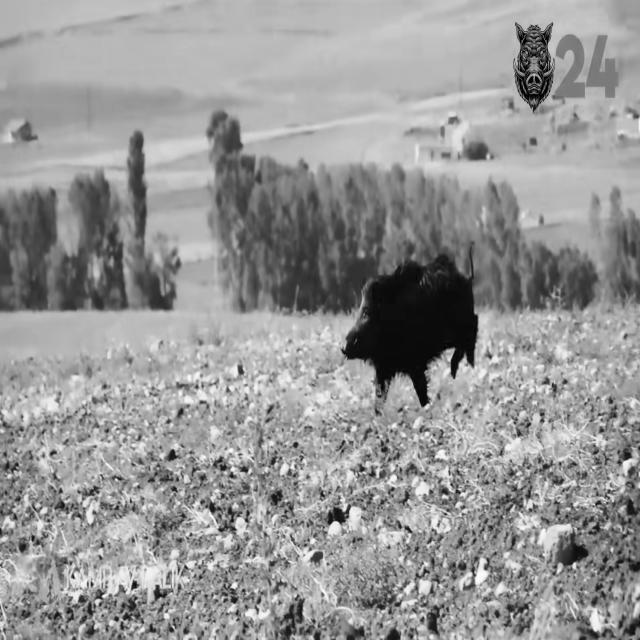boar: (342, 241, 477, 405), (514, 21, 556, 111)
